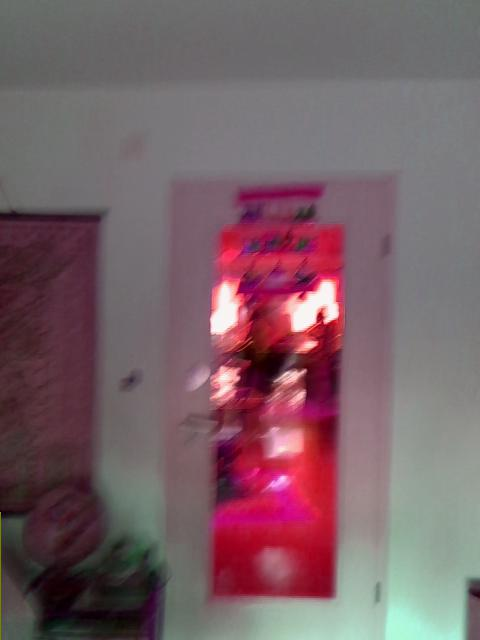closed_door: (158, 170, 399, 638)
